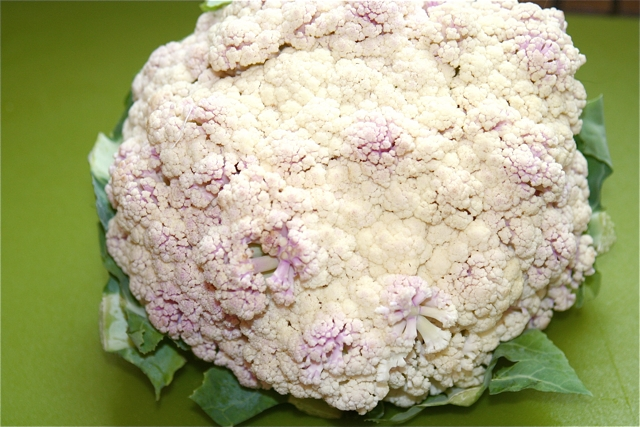cauliflower: (103, 0, 598, 416)
